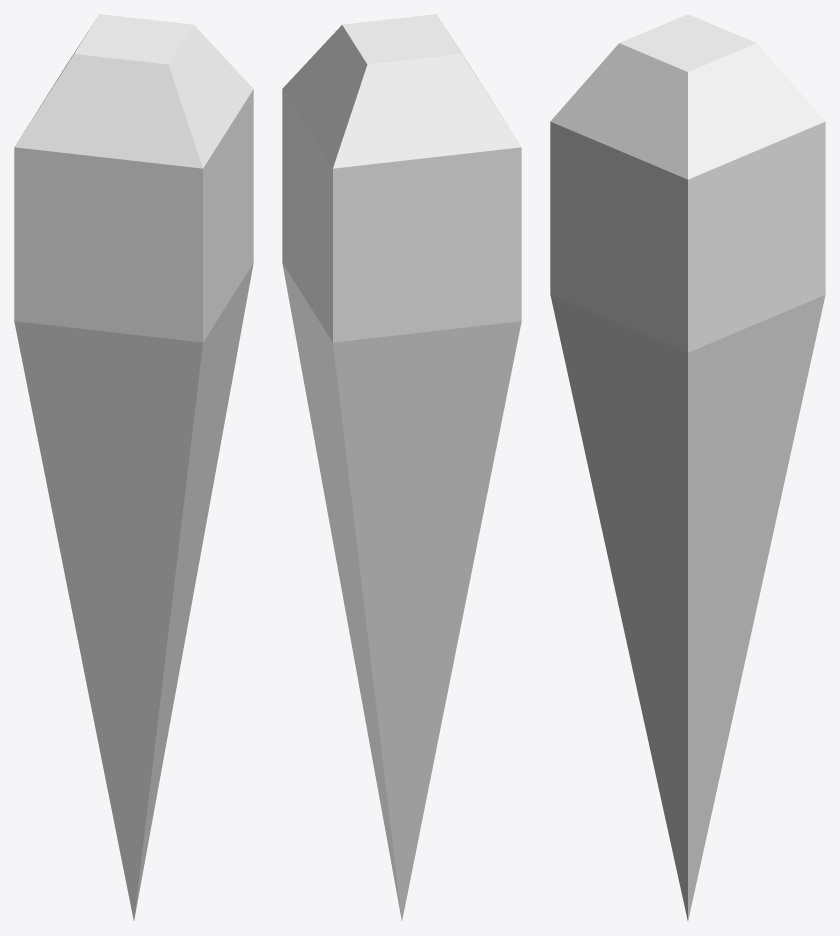
Rendered from bullet.obj.
3 views of the same model, side by side, from view 1: azimuth 30°, elevation 25°; view 2: azimuth 150°, elevation 25°; view 3: azimuth 270°, elevation 25° (orthographic).
Visible parts, largest first — view 1: Cube; view 2: Cube; view 3: Cube.
Part boxes in pixels (x1,y1,x2,y2): Cube: (14,14,253,920); Cube: (282,14,521,920); Cube: (550,14,825,920).
Size of the model in its own units: 0.3643 by 1.28 by 0.3643.
1 material, 1 textured.
